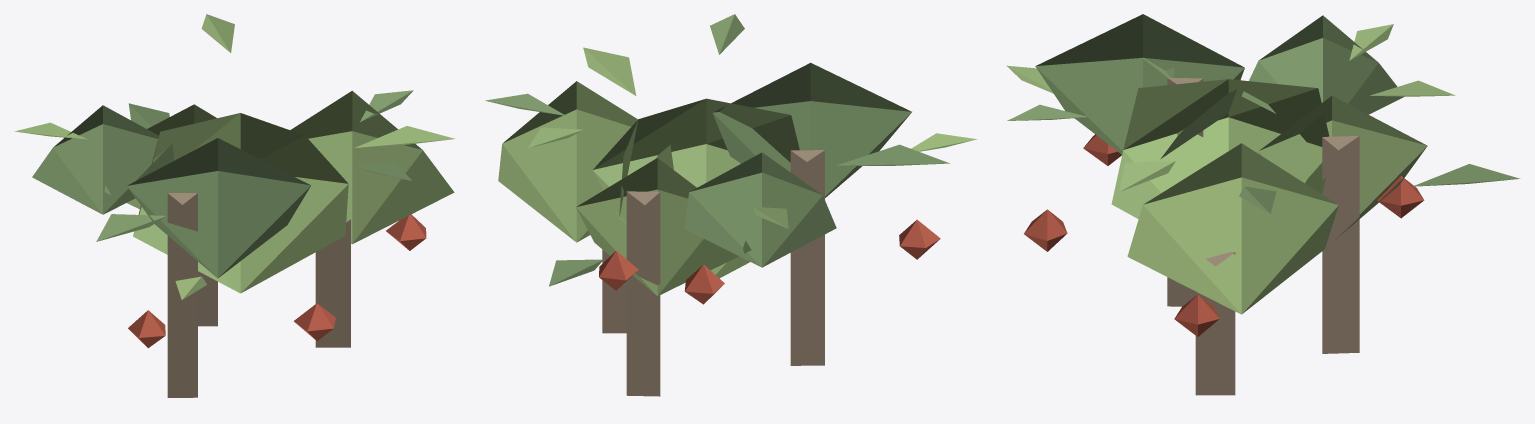
File: hua.ju@fruiting__spring.glb
3 views of the same model, side by side, from view 1: azimuth 30°, elevation 25°; view 2: azimuth 150°, elevation 25°; view 3: azimuth 270°, elevation 25° (orthographic). The views are drawn at different scales.
Visible parts, largest first — view 1: hua.ju@fruiting__spring; view 2: hua.ju@fruiting__spring; view 3: hua.ju@fruiting__spring.
Boxes of the visible parts, <box> form: hua.ju@fruiting__spring: <box>14,14,454,397</box>; hua.ju@fruiting__spring: <box>485,14,976,396</box>; hua.ju@fruiting__spring: <box>1006,14,1520,395</box>.
Bounding box in the file's own units: 1.24 × 0.8564 × 1.31.
